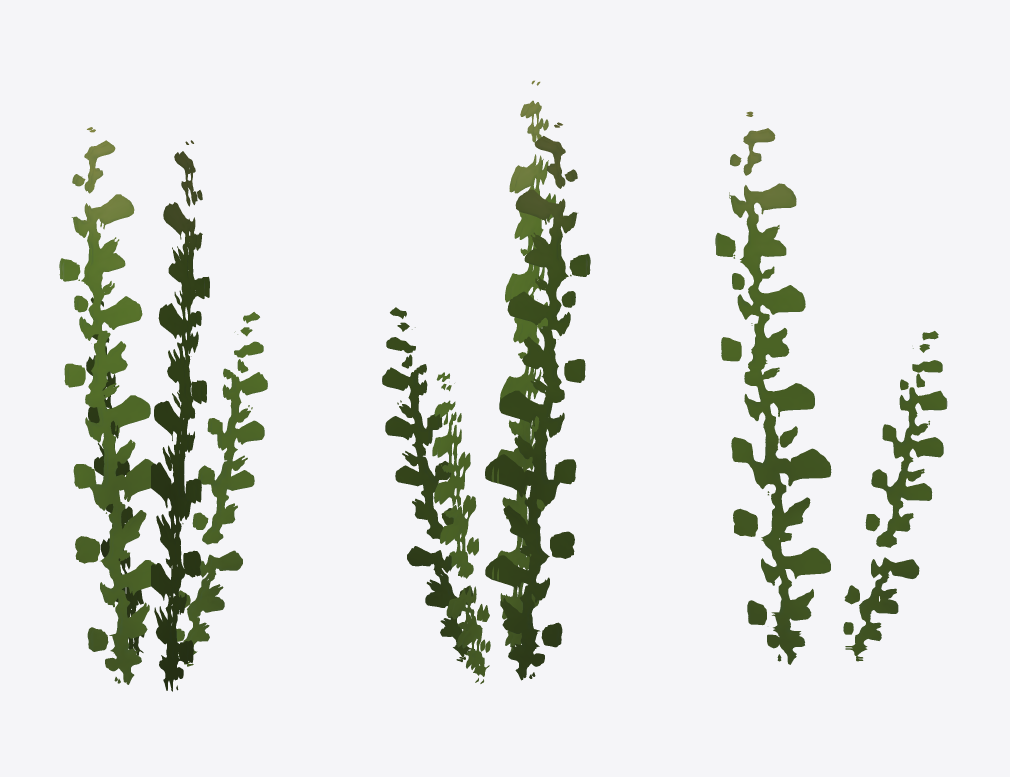
The model's file is Grass5.fbx.
3 renders of one model, left to right at view 1: azimuth 30°, elevation 25°; view 2: azimuth 150°, elevation 25°; view 3: azimuth 270°, elevation 25°, orthographic. The views are drawn at different scales.
Parts seen in each view (by area): view 1: n_grass_diff_0_47.005; view 2: n_grass_diff_0_47.005; view 3: n_grass_diff_0_47.005.
Boxes of the visible parts, x1=… form: n_grass_diff_0_47.005: x1=59, y1=127, x2=267, y2=691; n_grass_diff_0_47.005: x1=382, y1=80, x2=590, y2=683; n_grass_diff_0_47.005: x1=715, y1=111, x2=947, y2=664.
Size of the model in its own units: 57.42 by 117 by 57.42.
